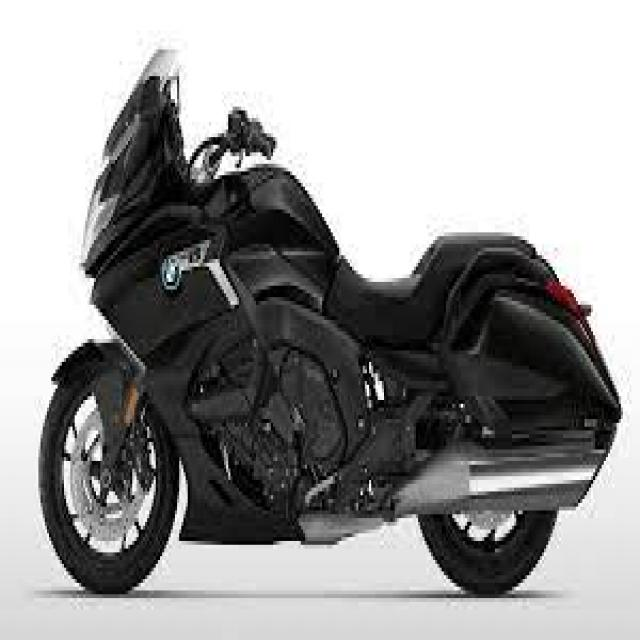Bike: (36, 56, 614, 605)
